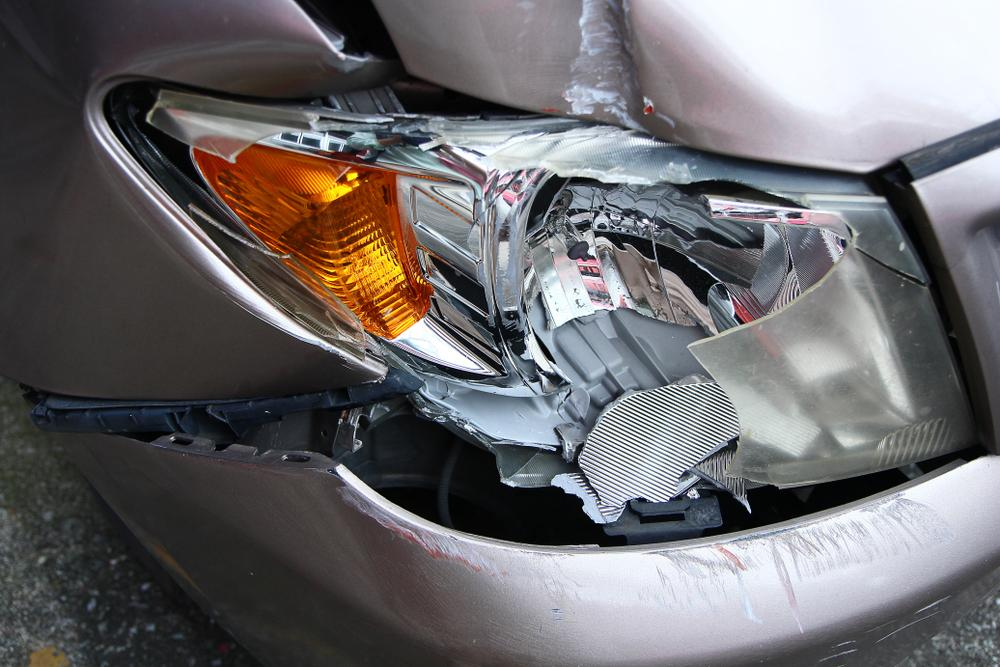dent: (553, 0, 649, 130)
lamp broken: (105, 81, 980, 547)
scratch: (345, 485, 960, 614)
